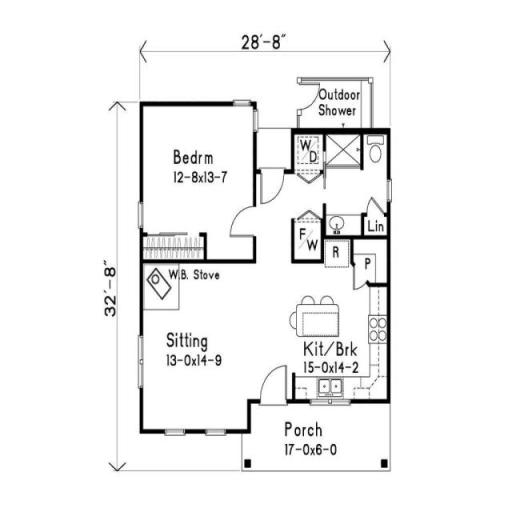bathroom: (284, 79, 382, 137)
bedroom: (148, 112, 262, 252)
hall: (144, 269, 270, 434)
kitchen: (274, 261, 394, 414)
porch: (272, 430, 397, 476)
